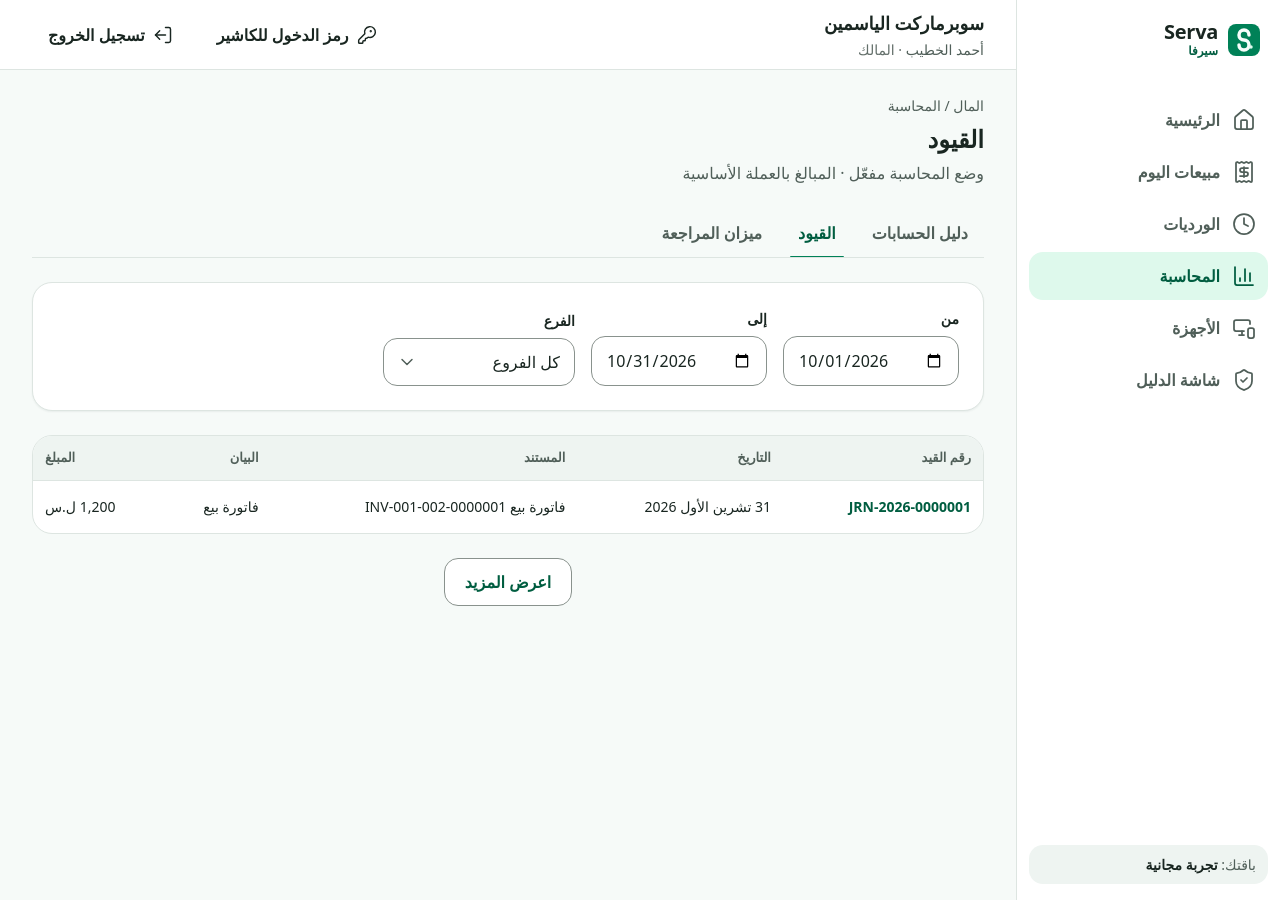
it: «القيود» › keeps the loaded entries when the next page fails
Click the button "اعرض المزيد" at (508, 582), box [444,558,572,606]
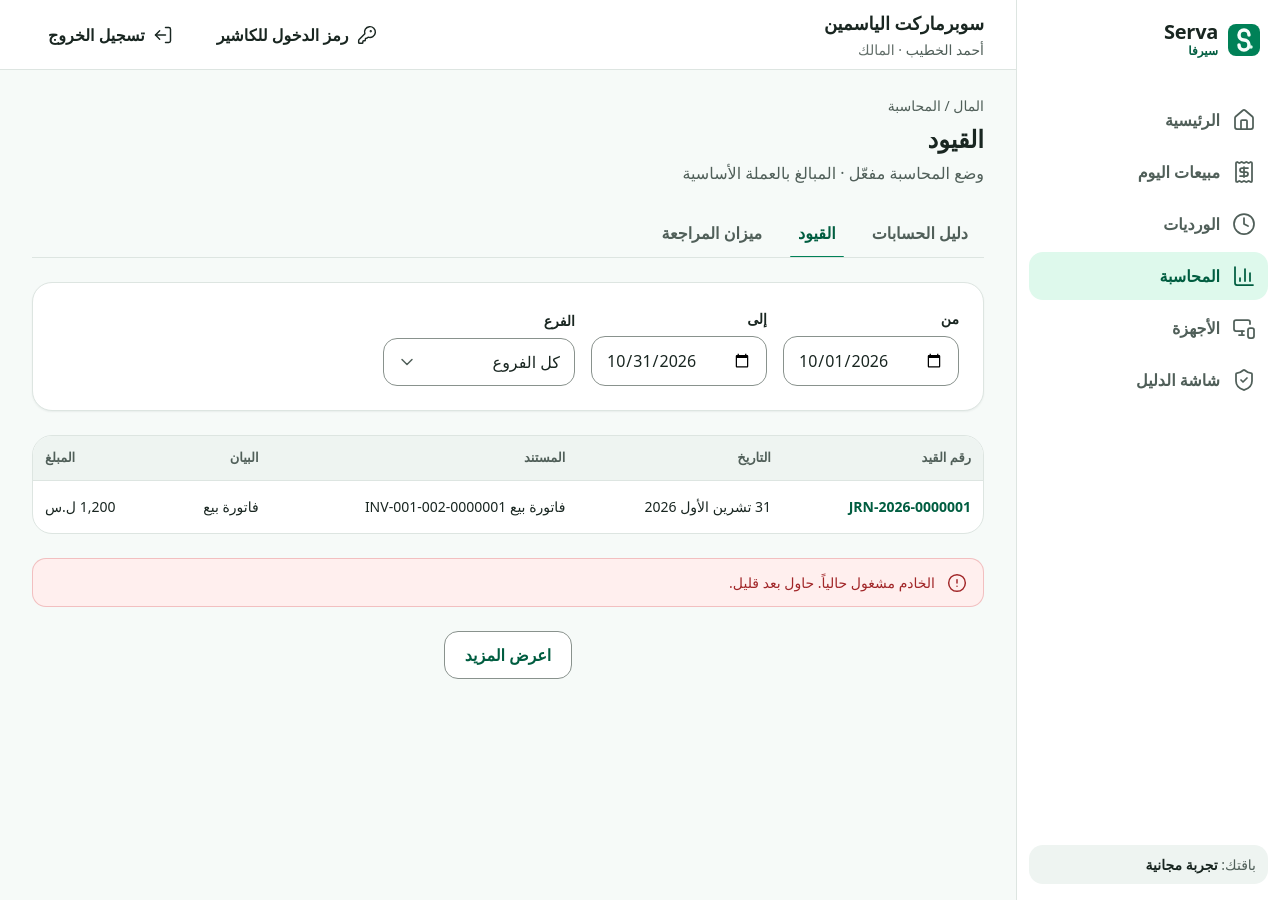
Expected: the text "JRN-2026-0000001" is shown, [849,495,971,518]
Expected: the text "الخادم مشغول حالياً. حاول بعد قليل." is shown, [729,570,935,594]
